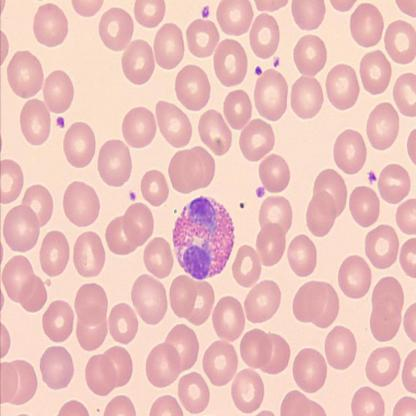Eosinophil: (172, 197, 233, 279)
